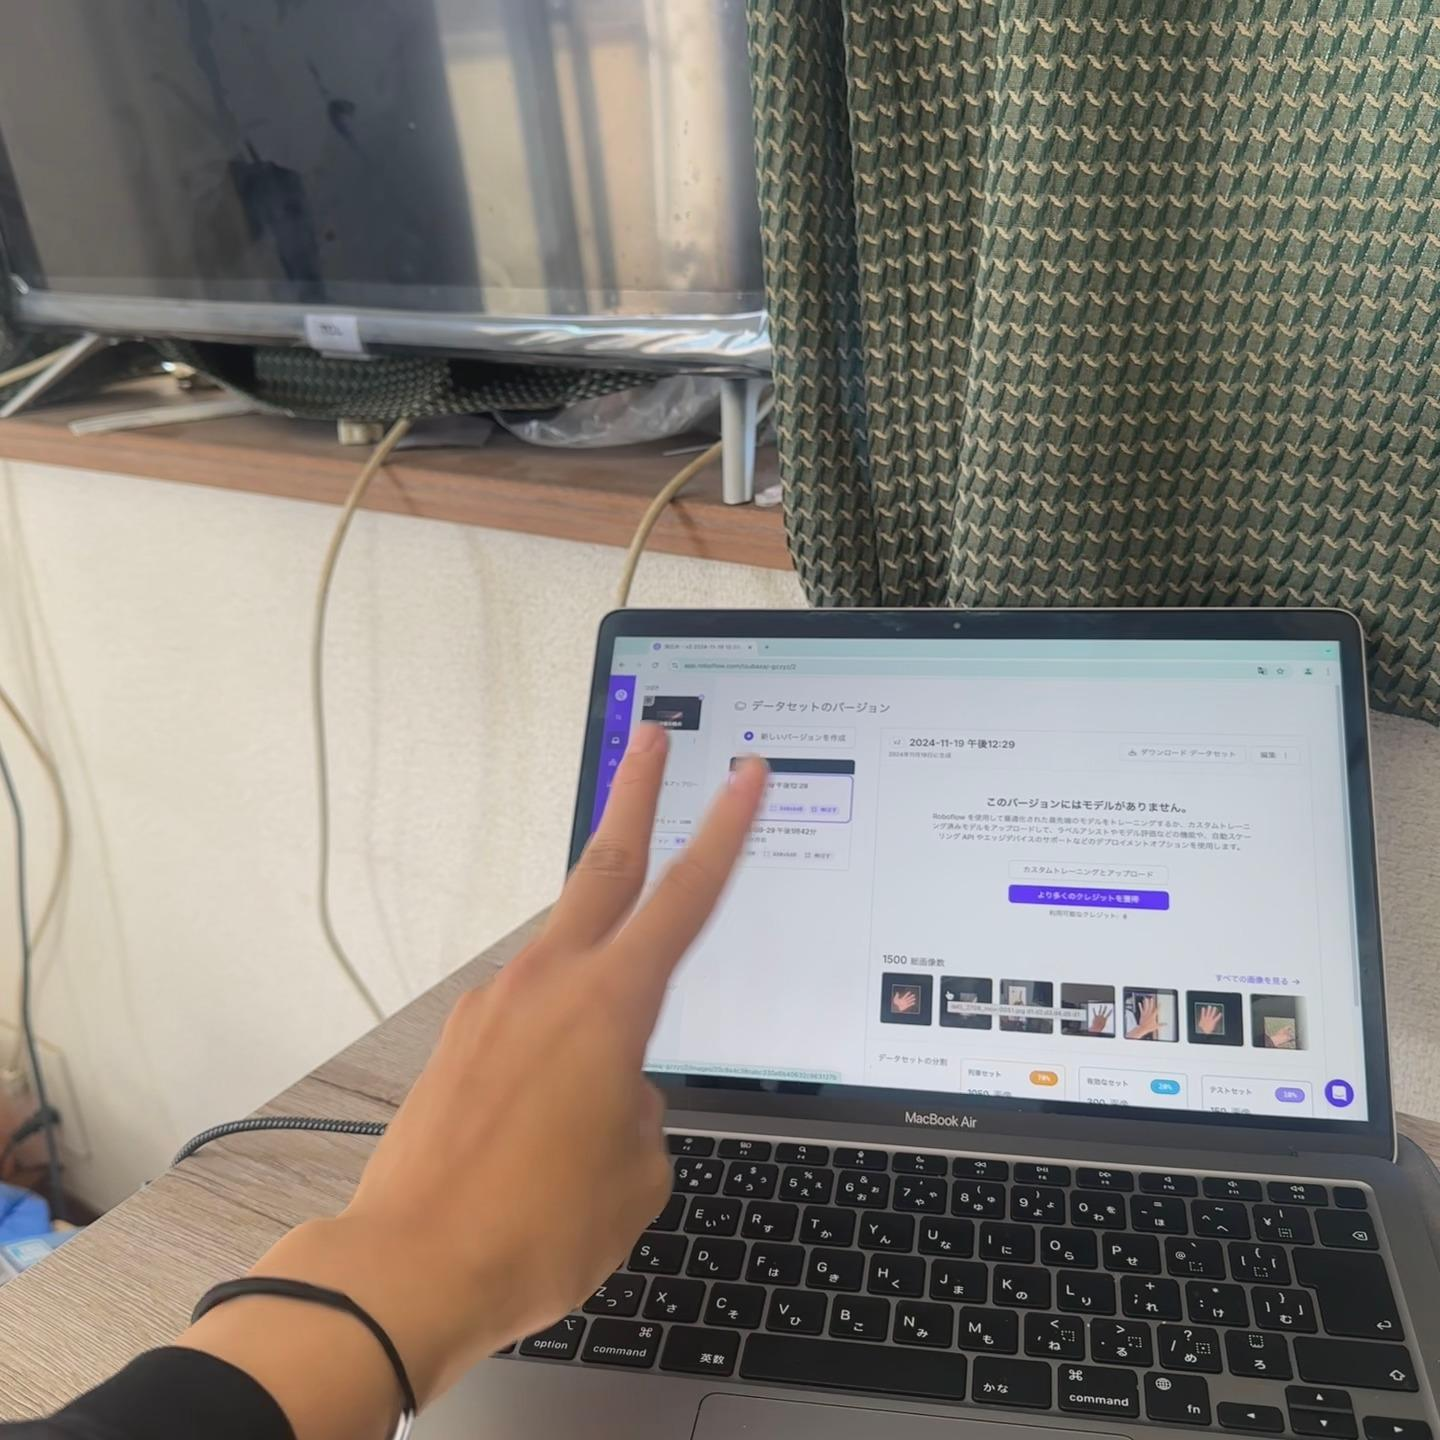without_gloves: (352, 690, 918, 1440)
